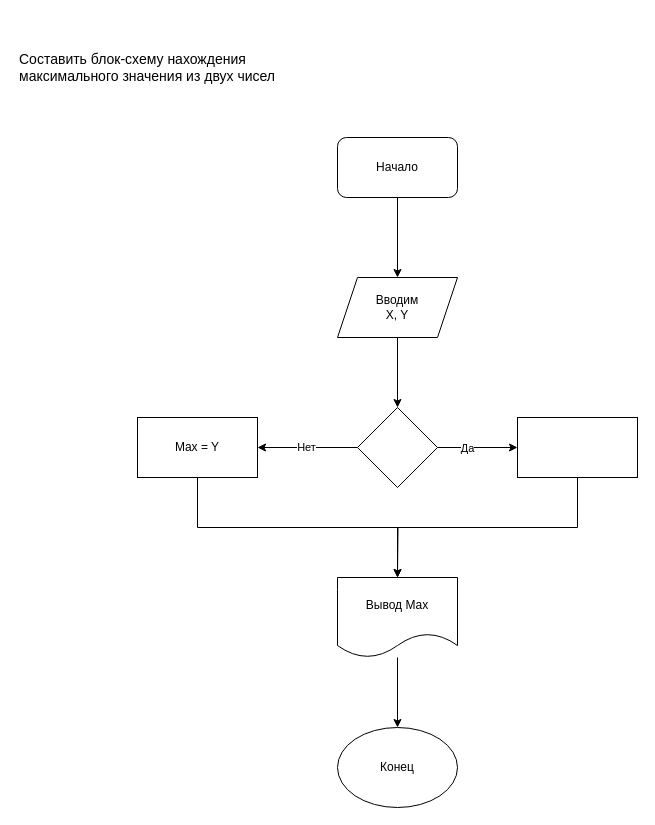
This 655x825 diagram has some shape labels left out. The shapes that lost their labels are listed below. From the top down, each one's centre as x and y in pixels, then its label:
the point at 397,447: X>Y
the point at 577,447: Max = X
